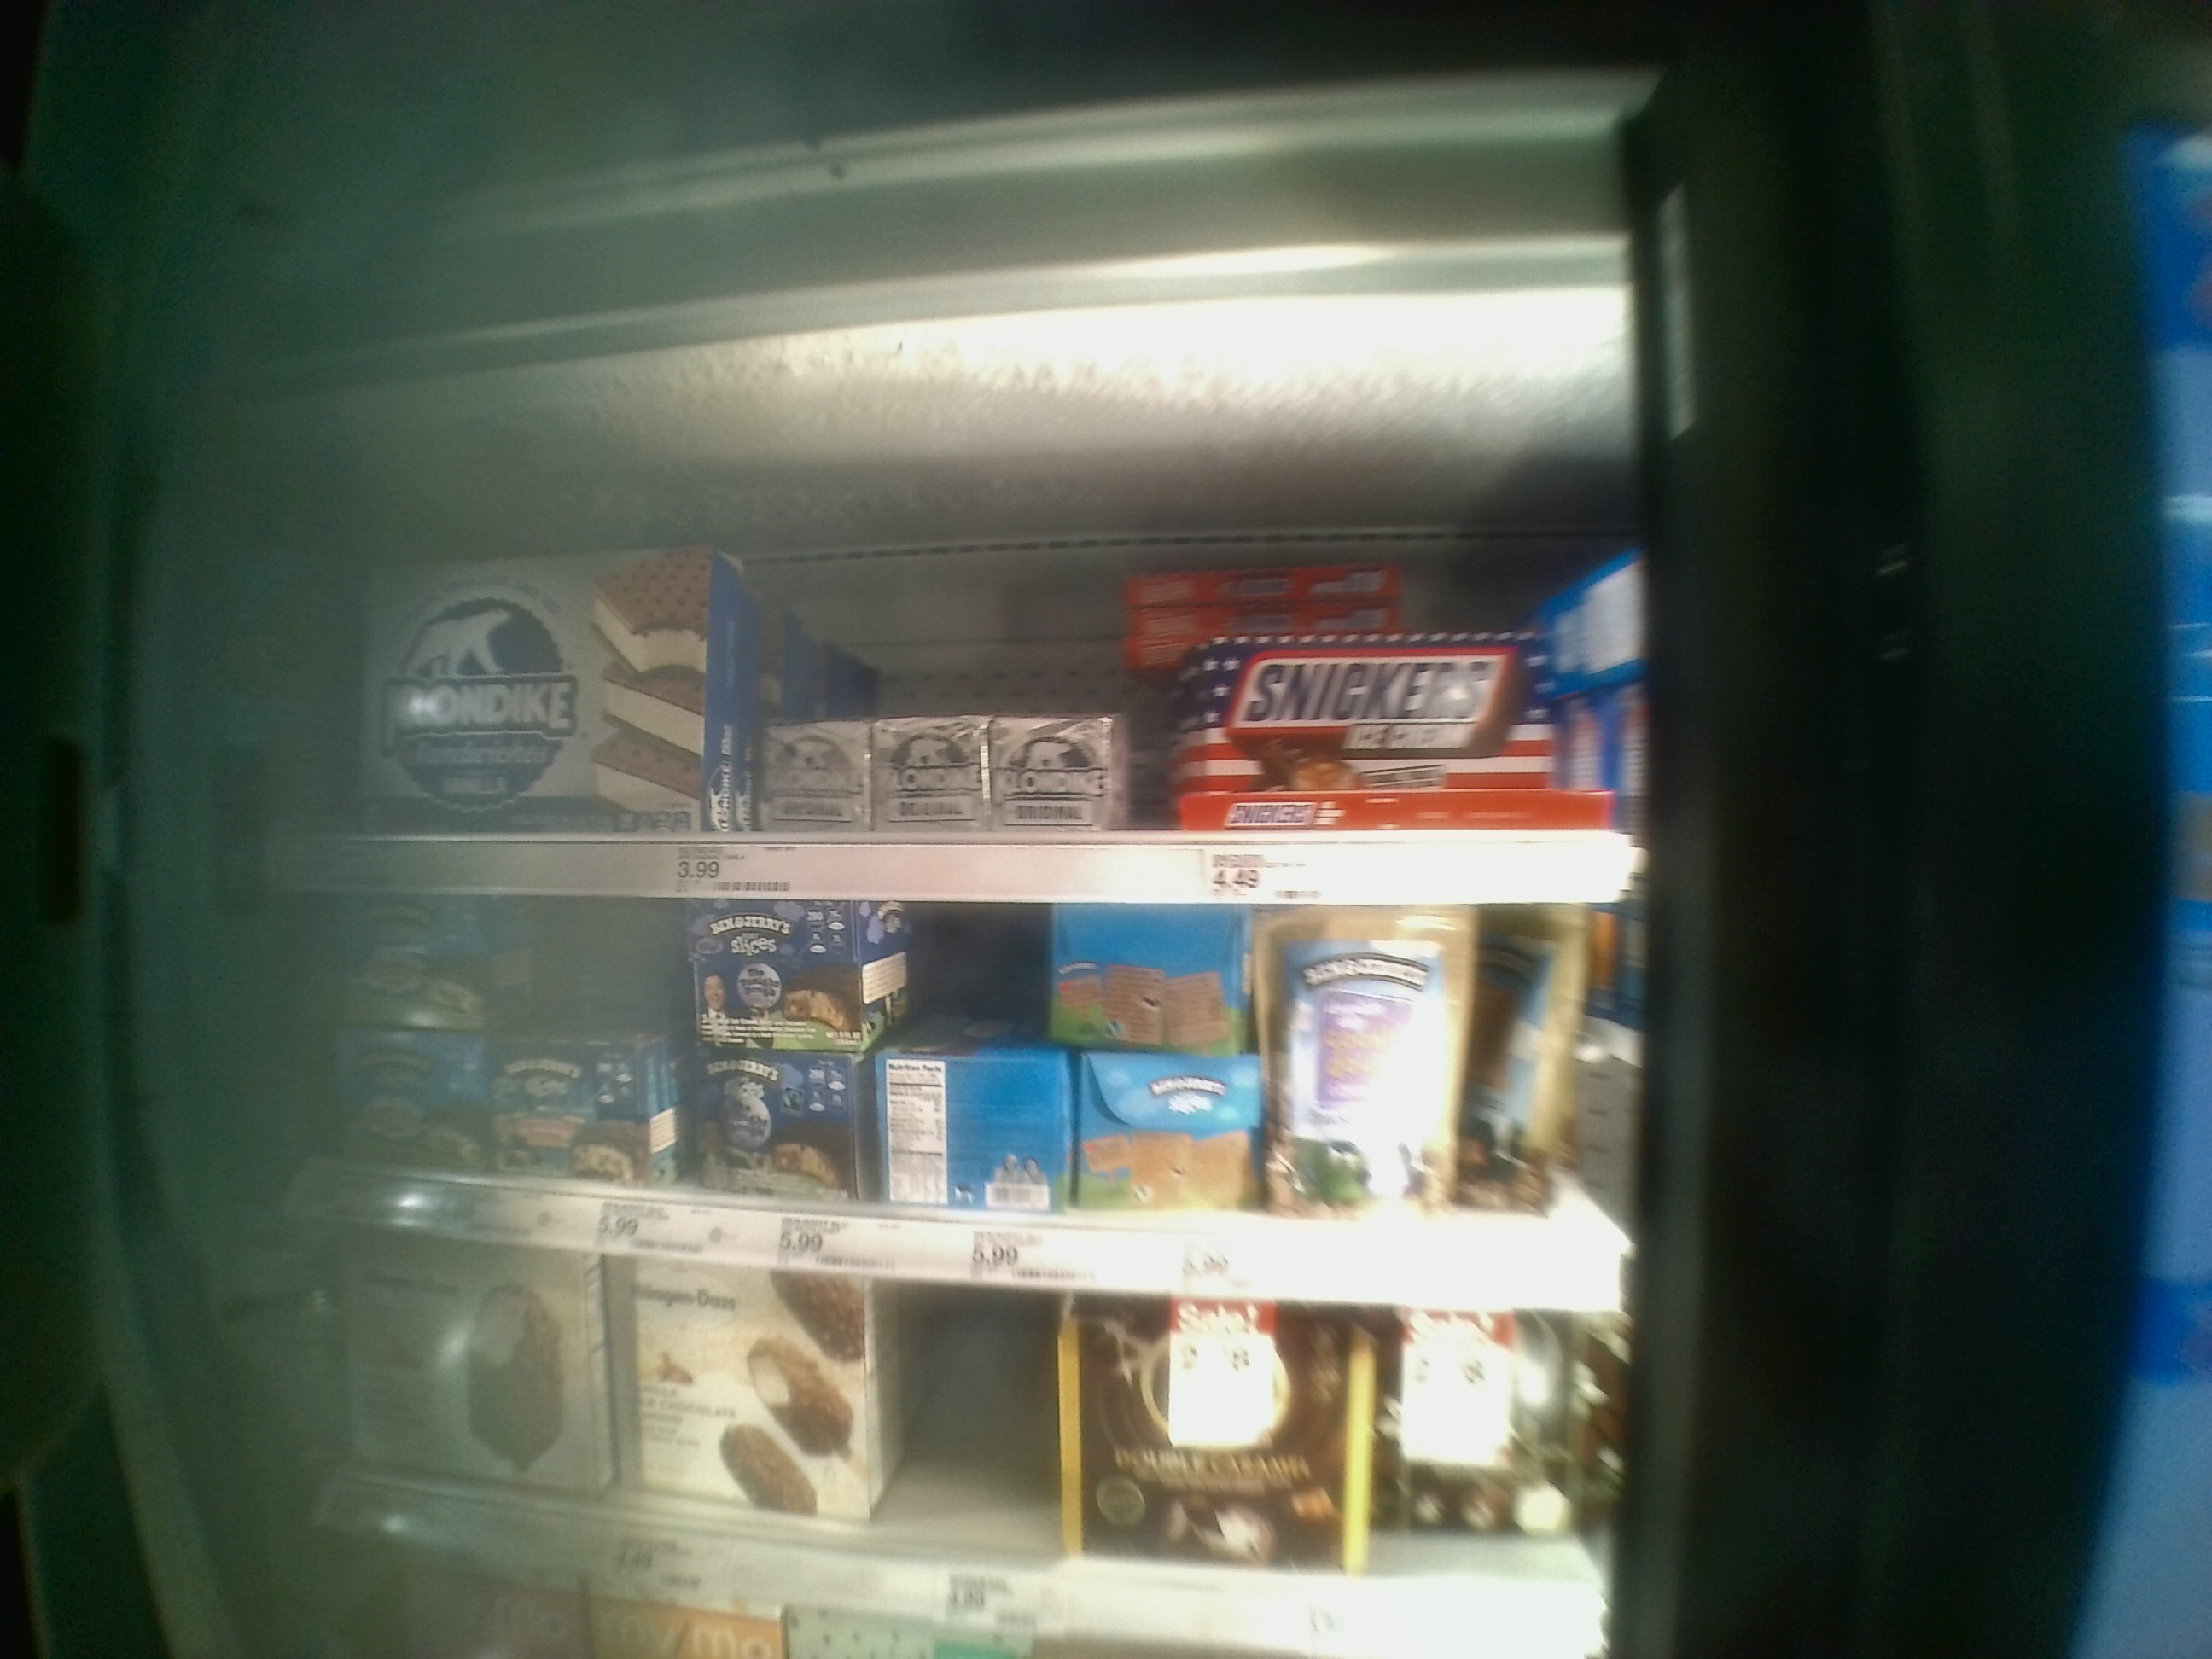ice-cream-shelf: (275, 472, 1651, 903), (291, 910, 1634, 1314)
